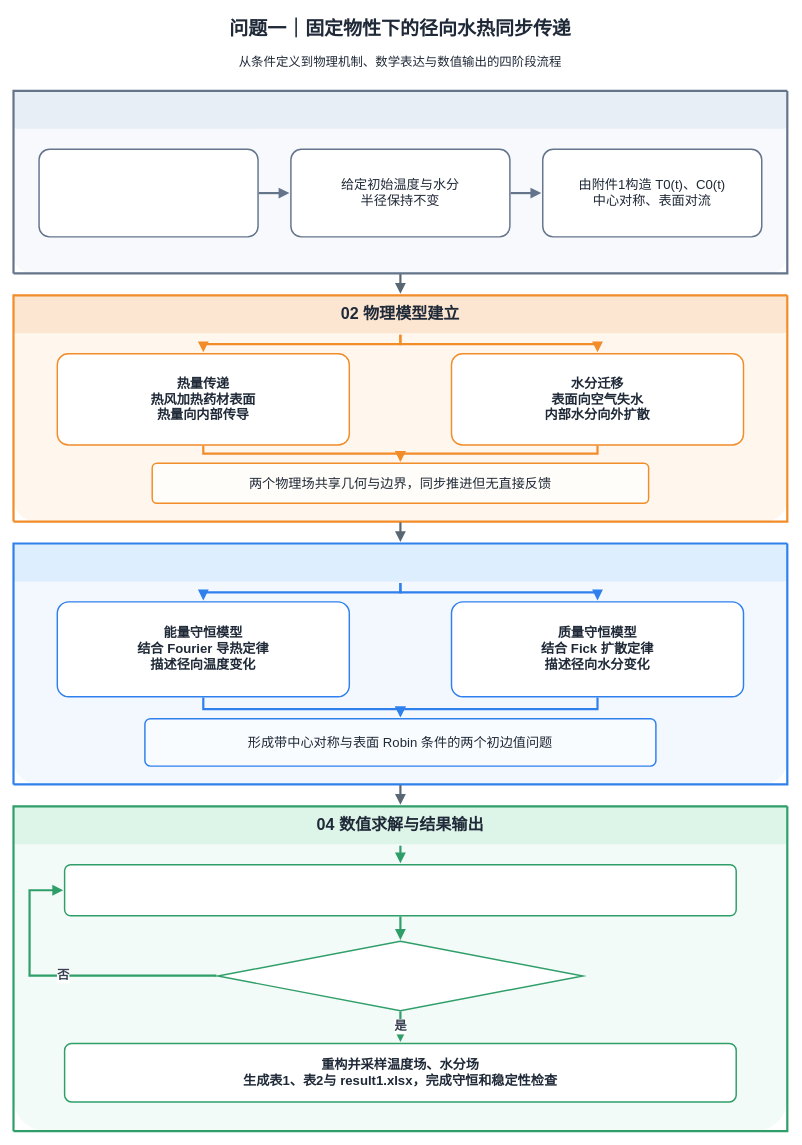
Some shapes in this 802 by 1145 pixel diagram are drawn without their labels. The shapes that lost their labels are listed below. From the top down, each one's centre as x and y in pixels, then its label:
the point at 400,109: 01 初始化与条件约束
the point at 148,192: 药材近似为长圆柱 仅考虑一维径向传递
the point at 400,562: 03 数学模型建立
the point at 400,890: 有限体积离散；后向 Euler 时间推进 温度直接求解，水分采用 Picard—Thomas 迭代
the point at 400,975: 是否达到 1800 s？
